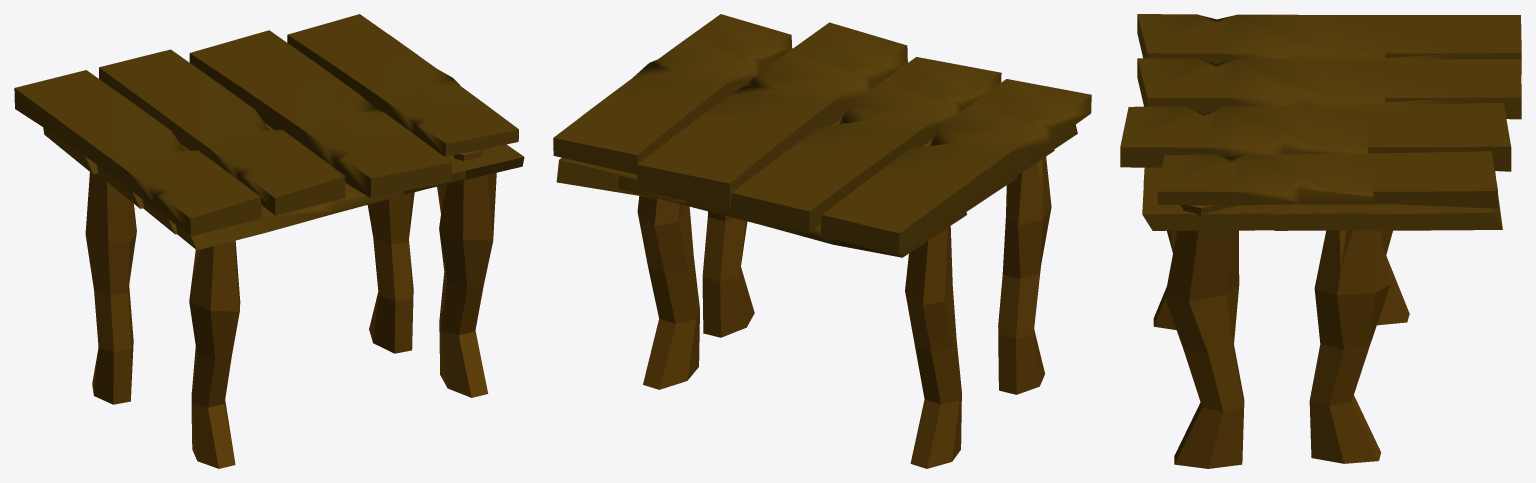
Rendered from table 1.fbx.
The picture shows the model from 3 angles, left to right: view 1: azimuth 30°, elevation 25°; view 2: azimuth 150°, elevation 25°; view 3: azimuth 270°, elevation 25°; orthographic projection. The views are drawn at different scales.
Parts seen in each view (by area): view 1: pCube35; view 2: pCube35; view 3: pCube35.
Boxes of the visible parts, x1,y1,x2,y2 form: pCube35: (14,14,524,468); pCube35: (553,14,1091,468); pCube35: (1120,14,1521,468).
Bounding box in the file's own units: 86.99 × 65.53 × 82.8.
